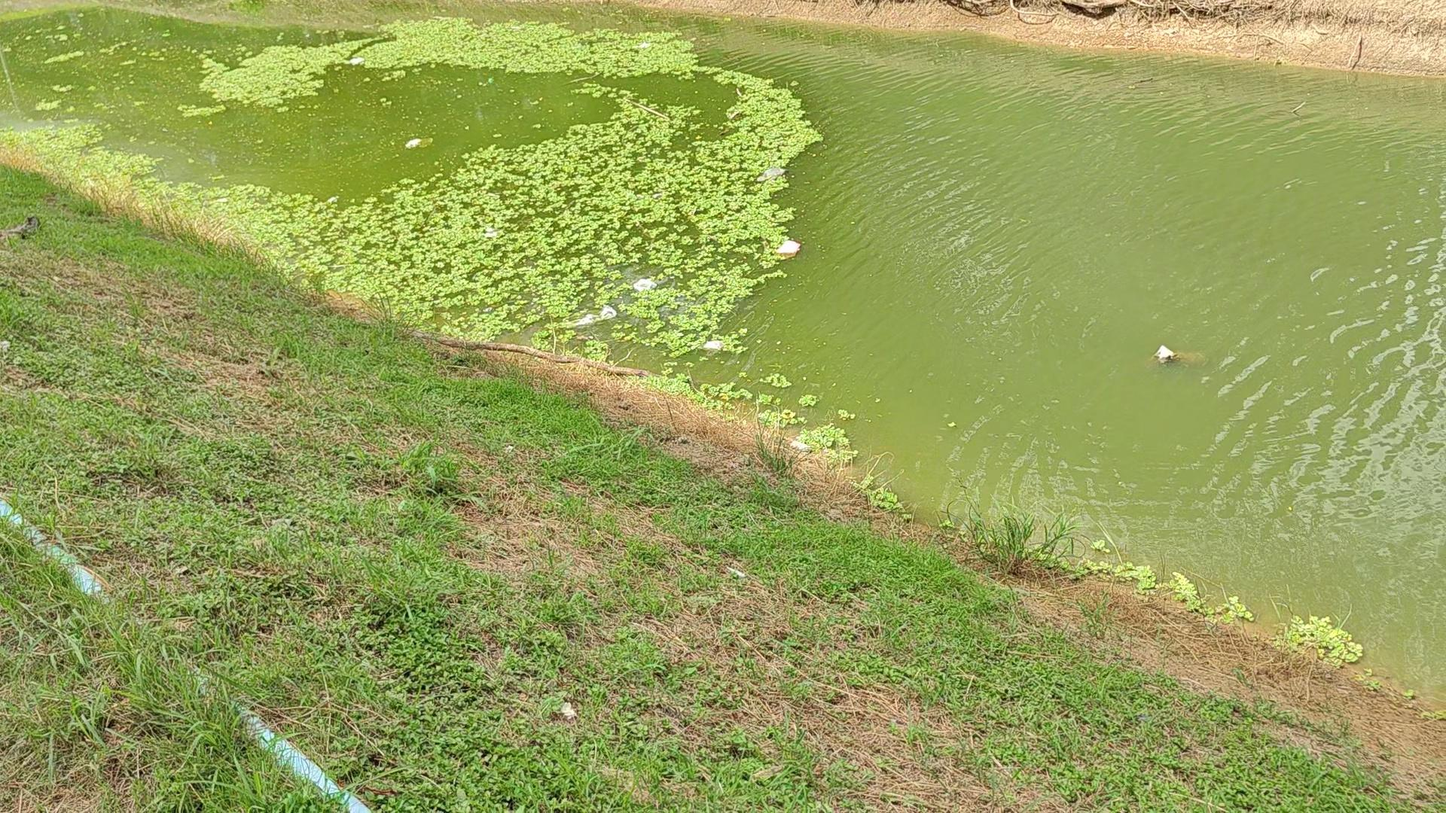trash: (566, 306, 617, 334), (776, 239, 801, 257), (758, 167, 785, 181), (1155, 345, 1177, 362), (633, 278, 656, 291), (405, 138, 429, 148), (703, 340, 722, 349), (484, 227, 498, 237), (636, 41, 651, 49), (348, 56, 363, 64)
